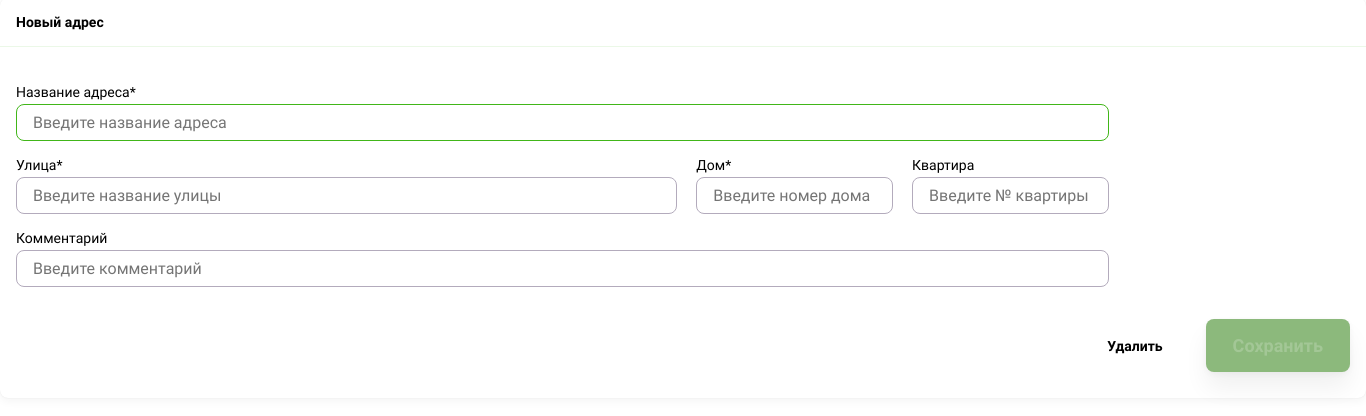
it: ProfileAddressForm › both add and edit modes › submit button disabled when street field is empty
Type "New Address" into the field labelled "Название адреса*" at (562, 122), box 16,104 -> 1109,141
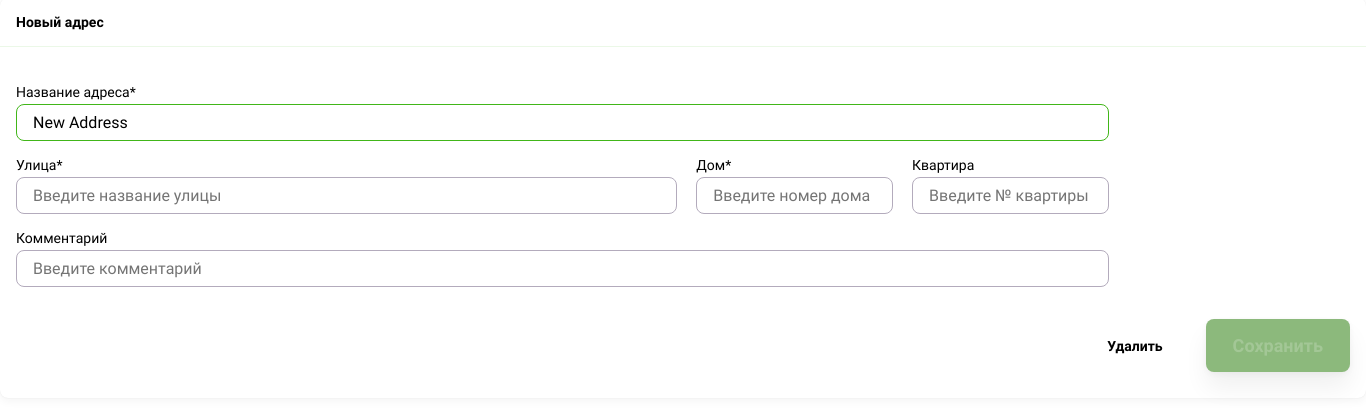
Type "Baker street" into the field labelled "Улица*" at (347, 196), box 16,177 -> 677,214
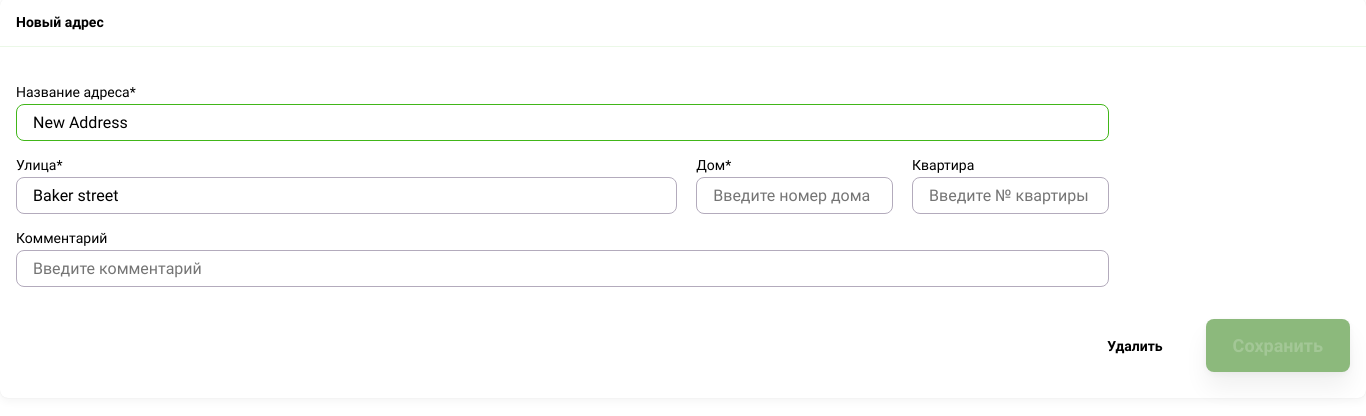
Type "1" into the field labelled "Дом*" at (795, 196), box 696,177 -> 893,214
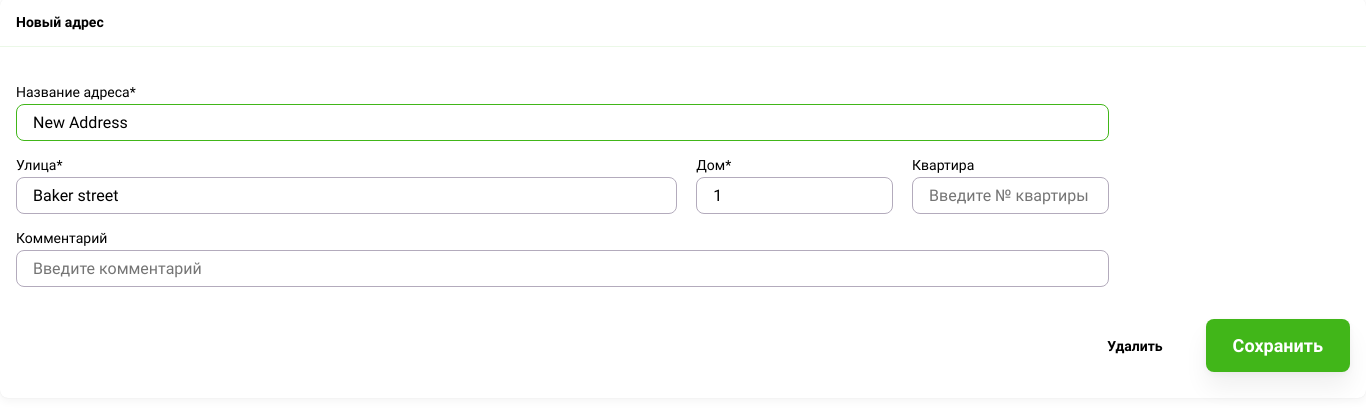
Clear the field labelled "Улица*" at (347, 196), box 16,177 -> 677,214
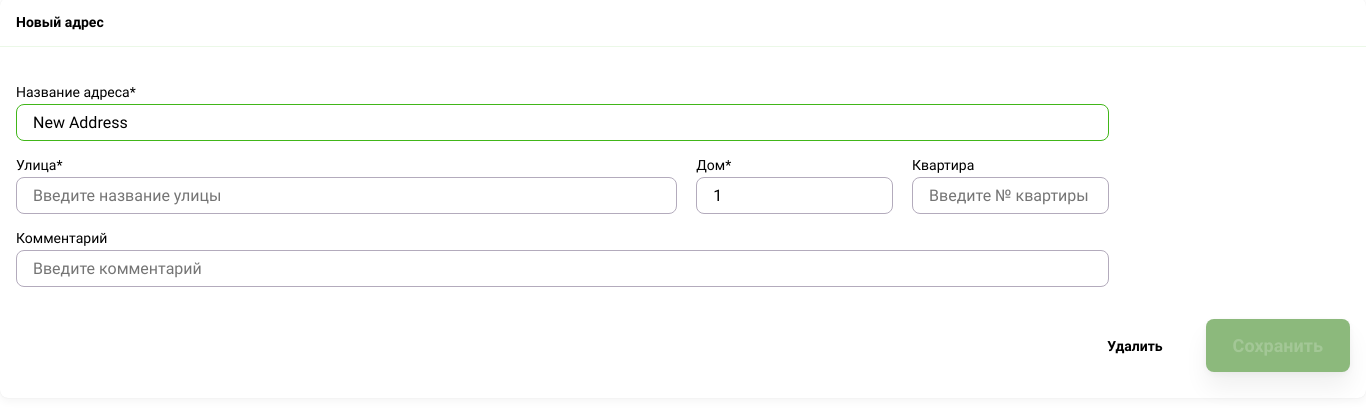
Result: the submit button is disabled at 1206,319 -> 1350,372
